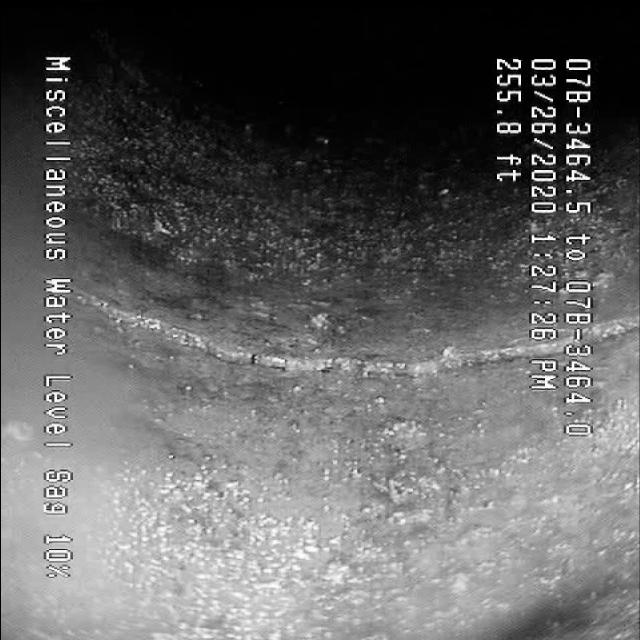Crack: (98, 298, 516, 404)
